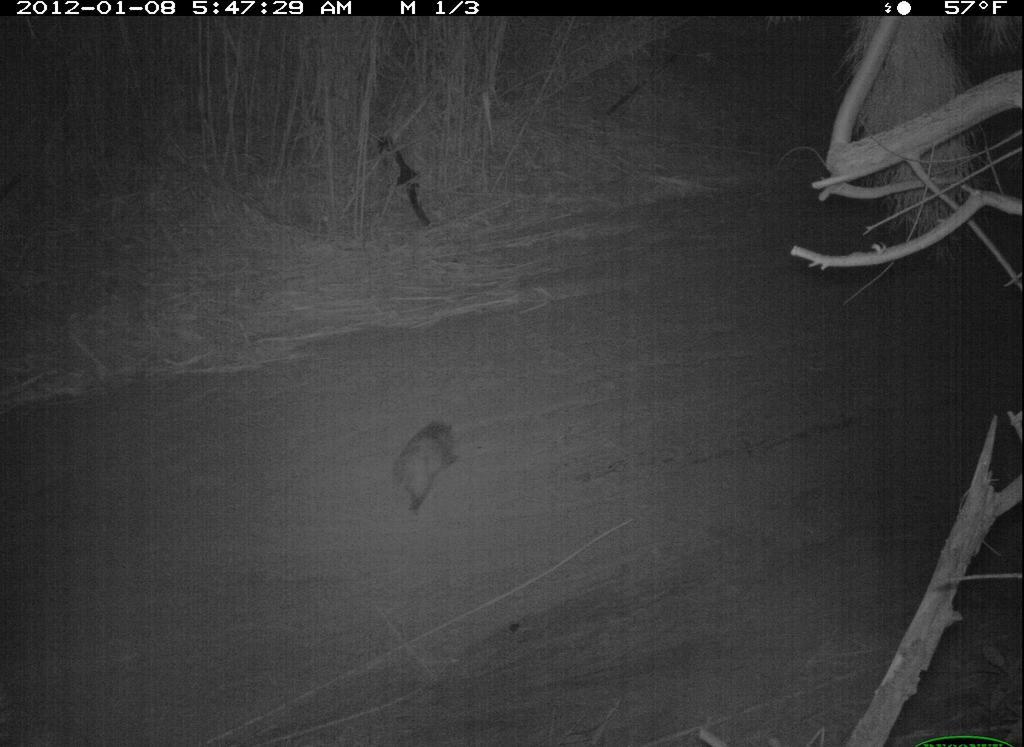opossum: (386, 411, 472, 523)
